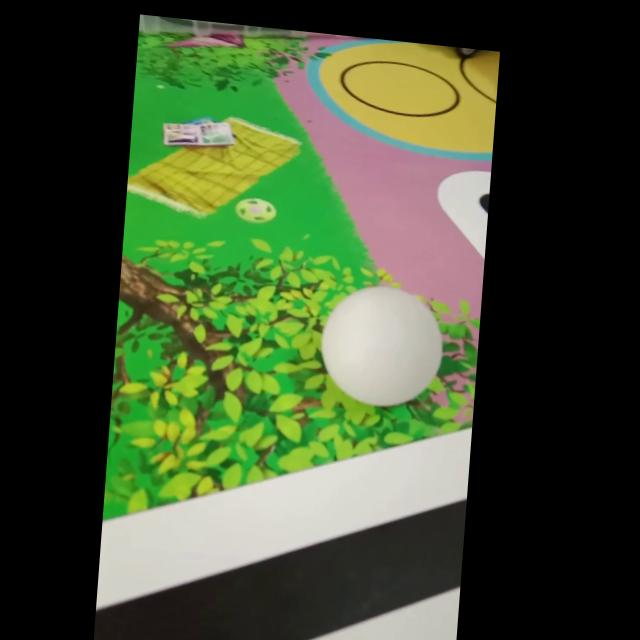white ball: (315, 279, 448, 413)
